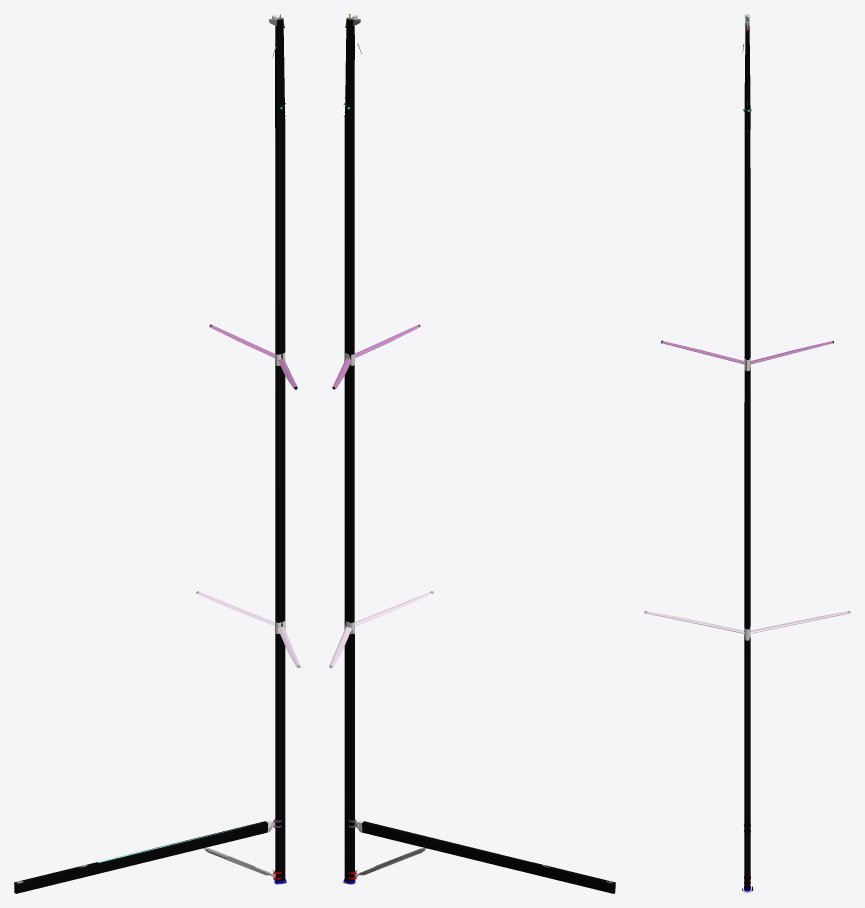
3 views of the same model, side by side, from view 1: azimuth 30°, elevation 25°; view 2: azimuth 150°, elevation 25°; view 3: azimuth 270°, elevation 25° (orthographic).
Visible parts, largest first — view 1: c0_0_0, c247_205_247; view 2: c0_0_0, c247_205_247; view 3: c0_0_0, c247_205_247, c152_66_148.
Part boxes in pixels (bbox=[...]): c0_0_0: bbox=[14, 19, 297, 893]; c247_205_247: bbox=[198, 592, 299, 666]; c0_0_0: bbox=[332, 19, 615, 893]; c247_205_247: bbox=[330, 592, 431, 665]; c0_0_0: bbox=[661, 23, 833, 891]; c247_205_247: bbox=[647, 611, 847, 633]; c152_66_148: bbox=[662, 341, 832, 364].
Bounding box in the file's own units: 5110 × 15630 × 3349.
